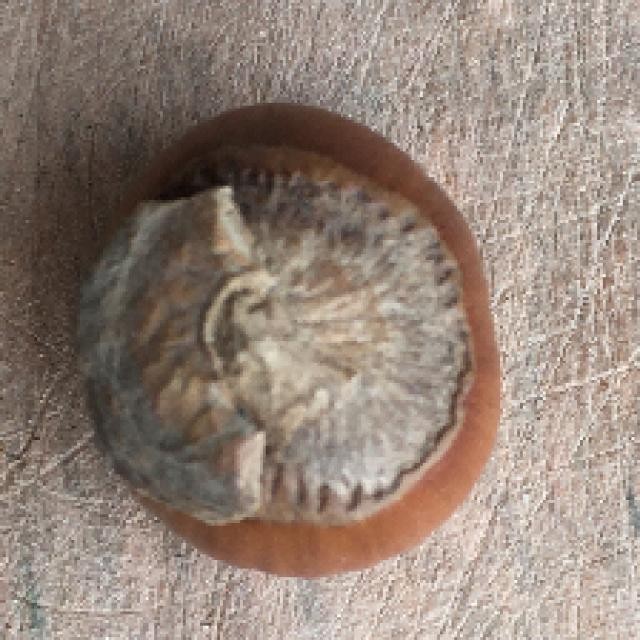DamagedHazelnut: (78, 105, 502, 580)
